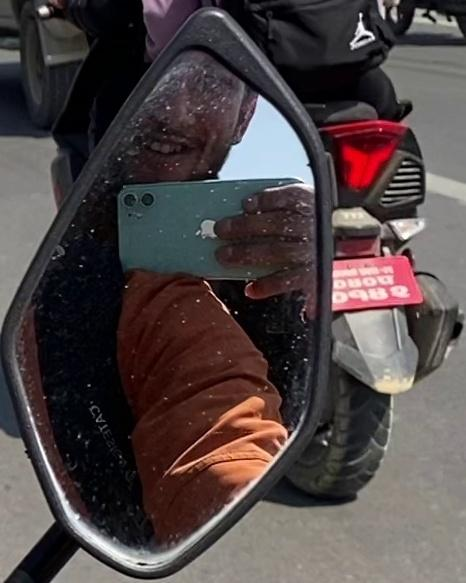license-plate: (325, 255, 421, 313)
